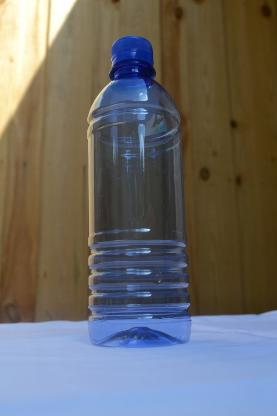Plastic Bottle: (88, 37, 196, 350)
